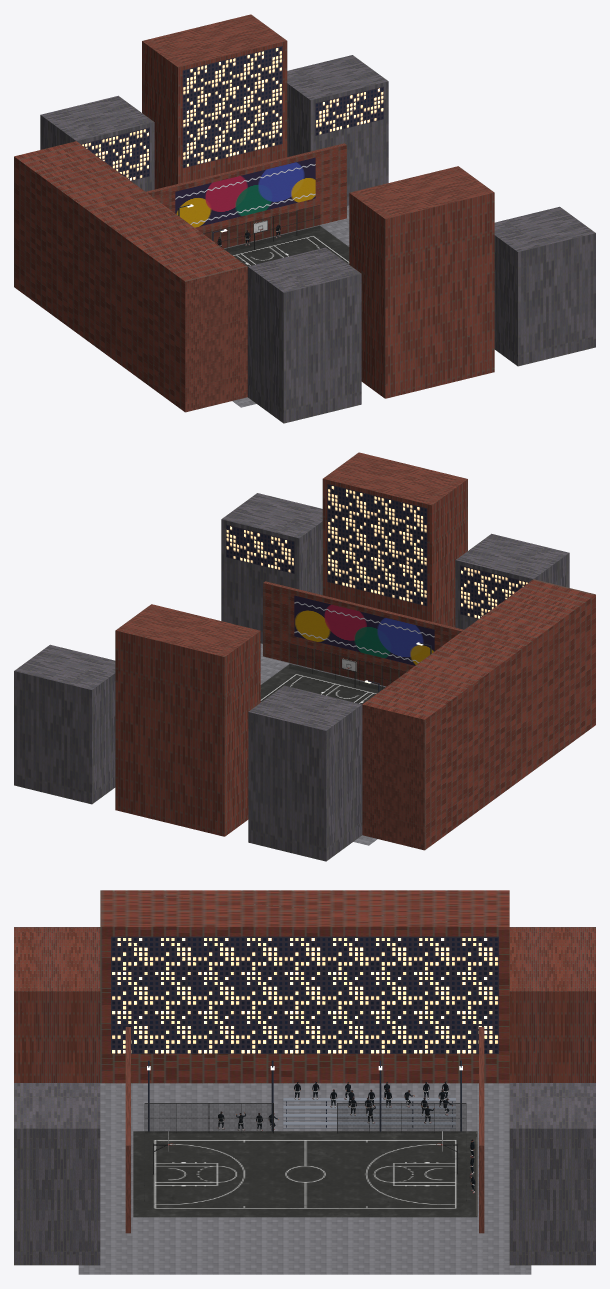
File: court.v3.glb
3 views of the same model, one above another, from view 1: azimuth 30°, elevation 25°; view 2: azimuth 150°, elevation 25°; view 3: azimuth 270°, elevation 25° (orthographic). The views are drawn at different scales.
Visible parts, largest first — view 1: far_building, building_1_1, building_1_0, building_1_2, building_0_1, facade_0_1, building_0_2, end_wall_0, mural, building_0_0, court, Fence (+3 smaller); view 2: far_building, building_0_1, building_0_0, building_0_2, building_1_1, facade_1_1, building_1_2, end_wall_1, mural_far, building_1_0, court, Fence (+3 smaller); view 3: far_facade, paving, far_building, court, building_0_2, building_1_2, building_0_1, building_1_1, Fence, crowd, end_wall_0, end_wall_1 (+5 smaller).
Part boxes in pixels (left/top/right/bottom): far_building: left=14, top=141, right=247, bottom=412; building_1_1: left=349, top=166, right=494, bottom=398; building_1_0: left=247, top=247, right=361, bottom=423; building_1_2: left=494, top=206, right=595, bottom=366; building_0_1: left=142, top=14, right=287, bottom=189; facade_0_1: left=182, top=46, right=282, bottom=168; building_0_2: left=287, top=55, right=388, bottom=205; end_wall_0: left=146, top=143, right=346, bottom=248; mural: left=175, top=157, right=315, bottom=227; building_0_0: left=40, top=95, right=154, bottom=191; court: left=224, top=225, right=349, bottom=266; Fence: left=204, top=206, right=319, bottom=251; far_building: left=362, top=579, right=595, bottom=850; building_0_1: left=115, top=604, right=260, bottom=836; building_0_0: left=248, top=685, right=362, bottom=861; building_0_2: left=14, top=644, right=115, bottom=804; building_1_1: left=322, top=452, right=467, bottom=627; facade_1_1: left=327, top=484, right=427, bottom=606; building_1_2: left=221, top=493, right=322, bottom=643; end_wall_1: left=263, top=581, right=463, bottom=686; mural_far: left=294, top=595, right=434, bottom=665; building_1_0: left=455, top=533, right=569, bottom=629; court: left=260, top=664, right=384, bottom=704; Fence: left=289, top=644, right=405, bottom=690; far_facade: left=111, top=936, right=498, bottom=1053; paving: left=78, top=1083, right=531, bottom=1274; far_building: left=100, top=890, right=509, bottom=1083; court: left=133, top=1131, right=477, bottom=1217; building_0_2: left=509, top=1083, right=595, bottom=1265; building_1_2: left=14, top=1083, right=100, bottom=1265; building_0_1: left=509, top=927, right=595, bottom=1082; building_1_1: left=14, top=927, right=100, bottom=1082; Fence: left=145, top=1104, right=465, bottom=1132; crowd: left=218, top=1081, right=475, bottom=1193; end_wall_0: left=479, top=1027, right=484, bottom=1233; end_wall_1: left=125, top=1027, right=130, bottom=1233.
Size of the model in its own units: 50 by 22.15 by 54.
Materials: 13 (10 with a texture image).
